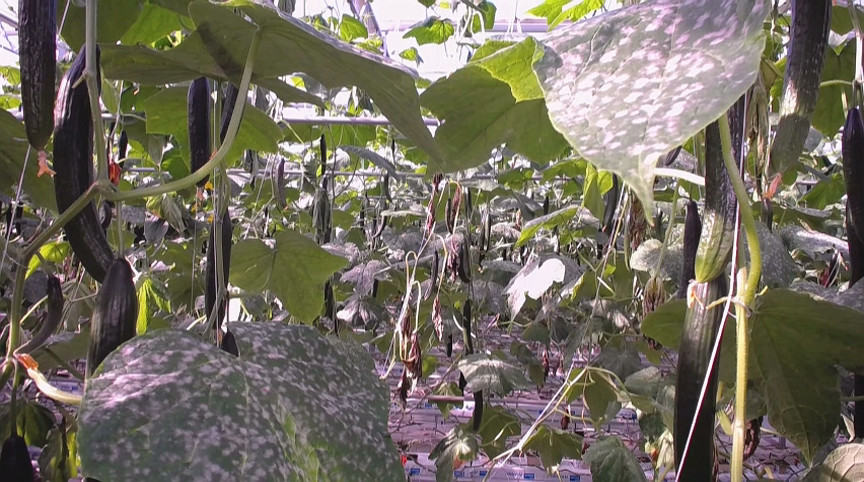cucumber: (54, 44, 112, 278), (772, 1, 831, 175), (674, 284, 722, 482), (696, 94, 746, 283), (16, 1, 56, 151), (87, 259, 139, 366), (13, 276, 59, 354), (207, 209, 232, 330), (186, 77, 211, 186), (845, 110, 864, 240)
